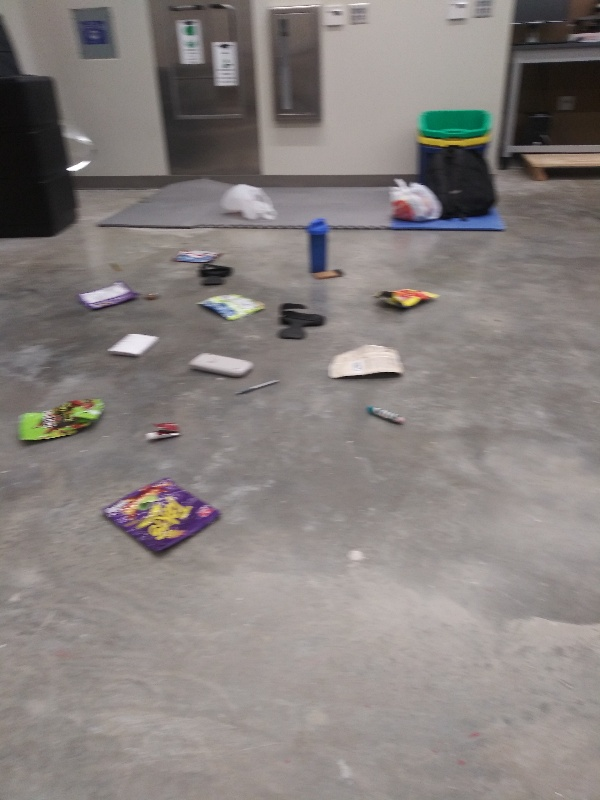bag: (94, 474, 225, 563), (12, 395, 114, 445), (322, 344, 411, 383), (191, 290, 272, 325), (71, 278, 141, 315), (366, 286, 447, 312), (166, 245, 230, 263)
